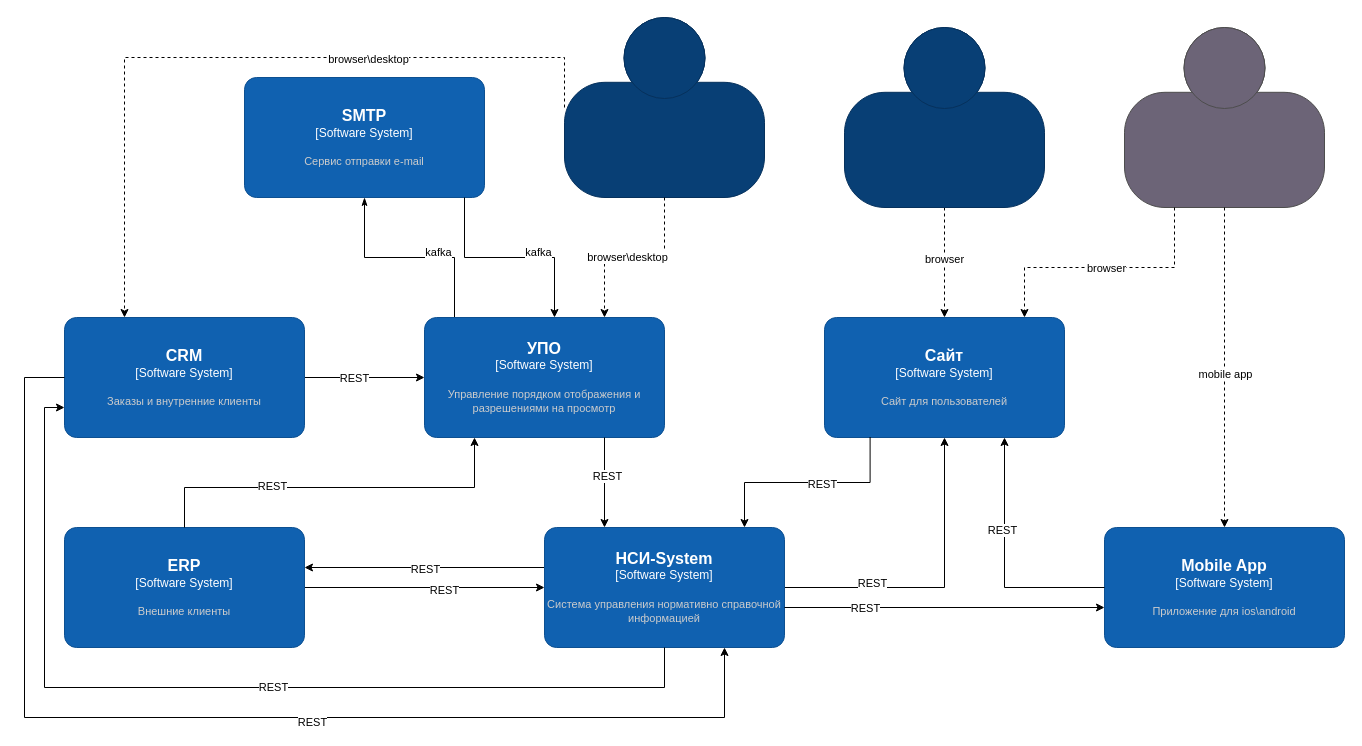
Image size: 1362x746. Some labels were removed from this diagram. Here are the shapes that lost their labels. From the top down, the centre of each, then its label:
point 664,107: Admin [Person] Администратор
point 944,117: Сотрудники заказчики [Person] Сотрудники компании, потребители сервиса
point 1224,117: Клиенты [Person] Физические и юридические лица
